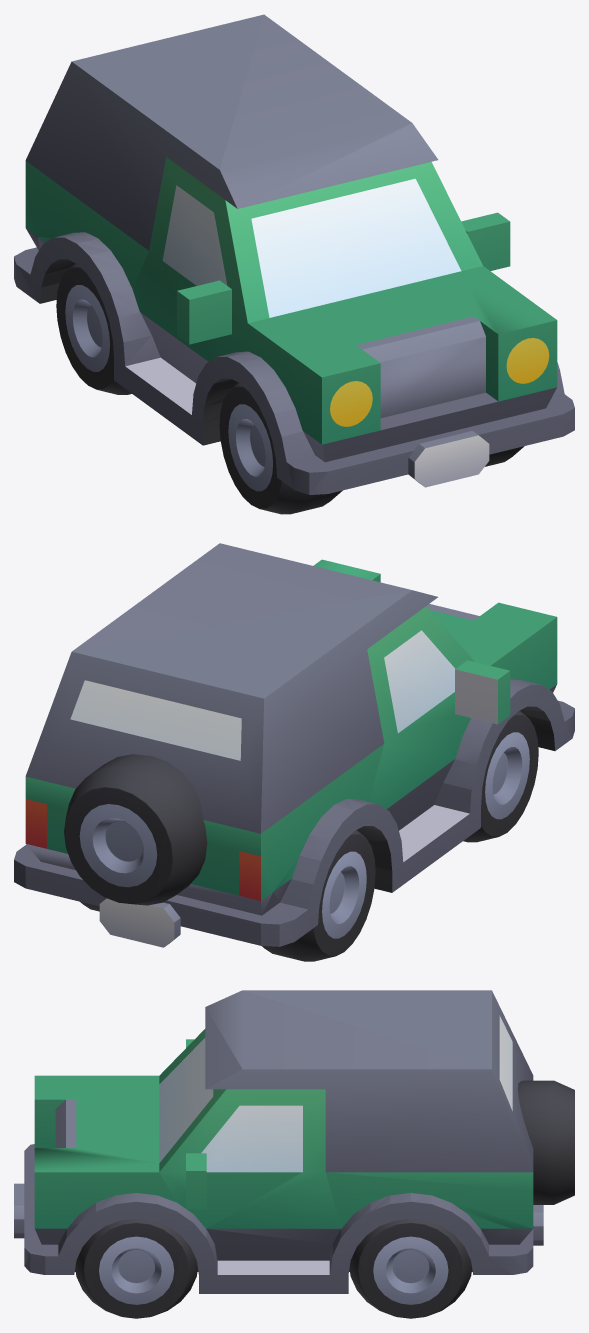
Rendered from suv.glb.
3 renders of one model, top to bottom at view 1: azimuth 30°, elevation 25°; view 2: azimuth 150°, elevation 25°; view 3: azimuth 270°, elevation 25°, orthographic. The views are drawn at different scales.
Parts seen in each view (by area): view 1: body, wheel-front-right, wheel-back-right; view 2: body, wheel-back, wheel-back-right, wheel-front-right; view 3: body, wheel-back-left, wheel-front-left, wheel-back.
Part boxes in pixels (x1=…): body: x1=14, y1=14, x2=574, y2=494; wheel-front-right: x1=219, y1=382, x2=342, y2=514; wheel-back-right: x1=56, y1=263, x2=131, y2=394; body: x1=14, y1=543, x2=574, y2=947; wheel-back: x1=64, y1=754, x2=207, y2=905; wheel-back-right: x1=262, y1=830, x2=375, y2=961; wheel-front-right: x1=463, y1=710, x2=538, y2=842; body: x1=14, y1=990, x2=543, y2=1293; wheel-back-left: x1=349, y1=1218, x2=472, y2=1318; wheel-front-left: x1=75, y1=1218, x2=197, y2=1318; wheel-back: x1=517, y1=1080, x2=574, y2=1204.
Size of the model in its own units: 1.5 by 1.3 by 2.7.
Materials: 6 (6 with a texture image).
